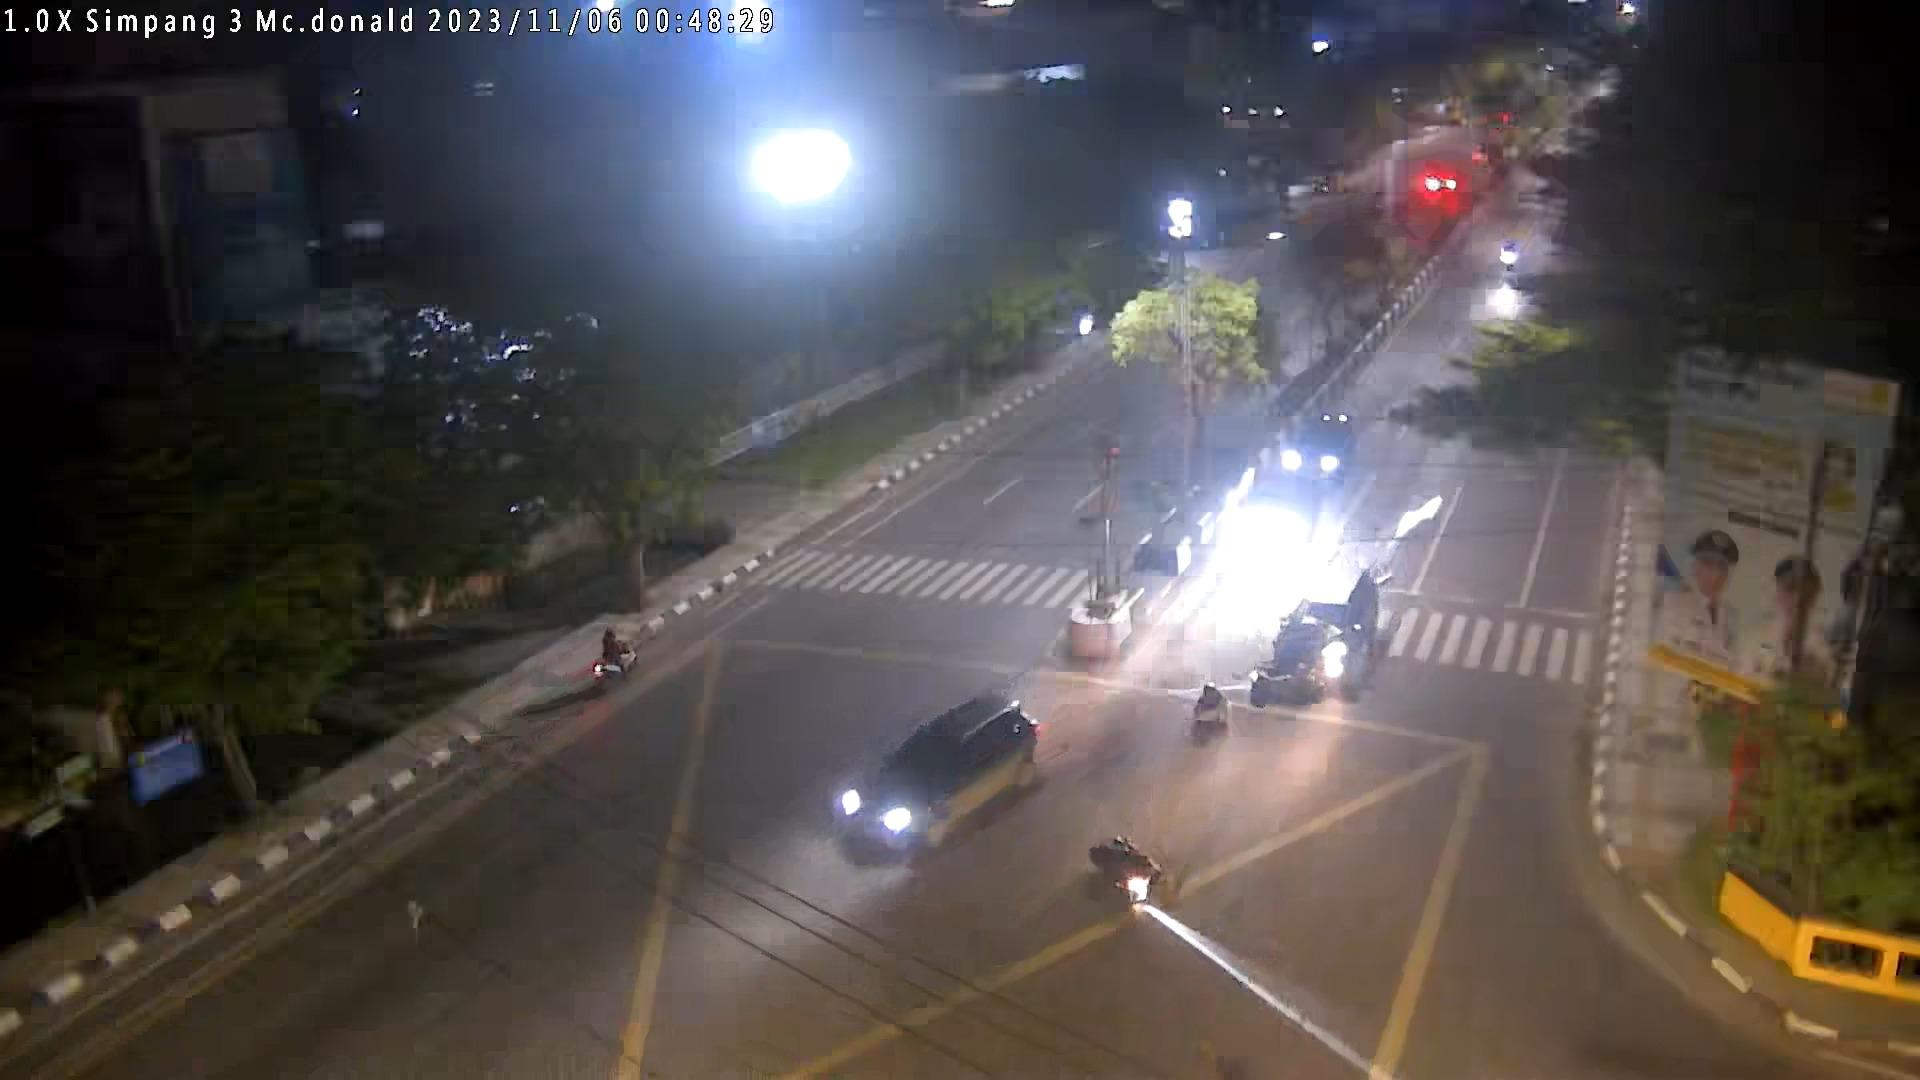accident: (1192, 680, 1233, 729)
